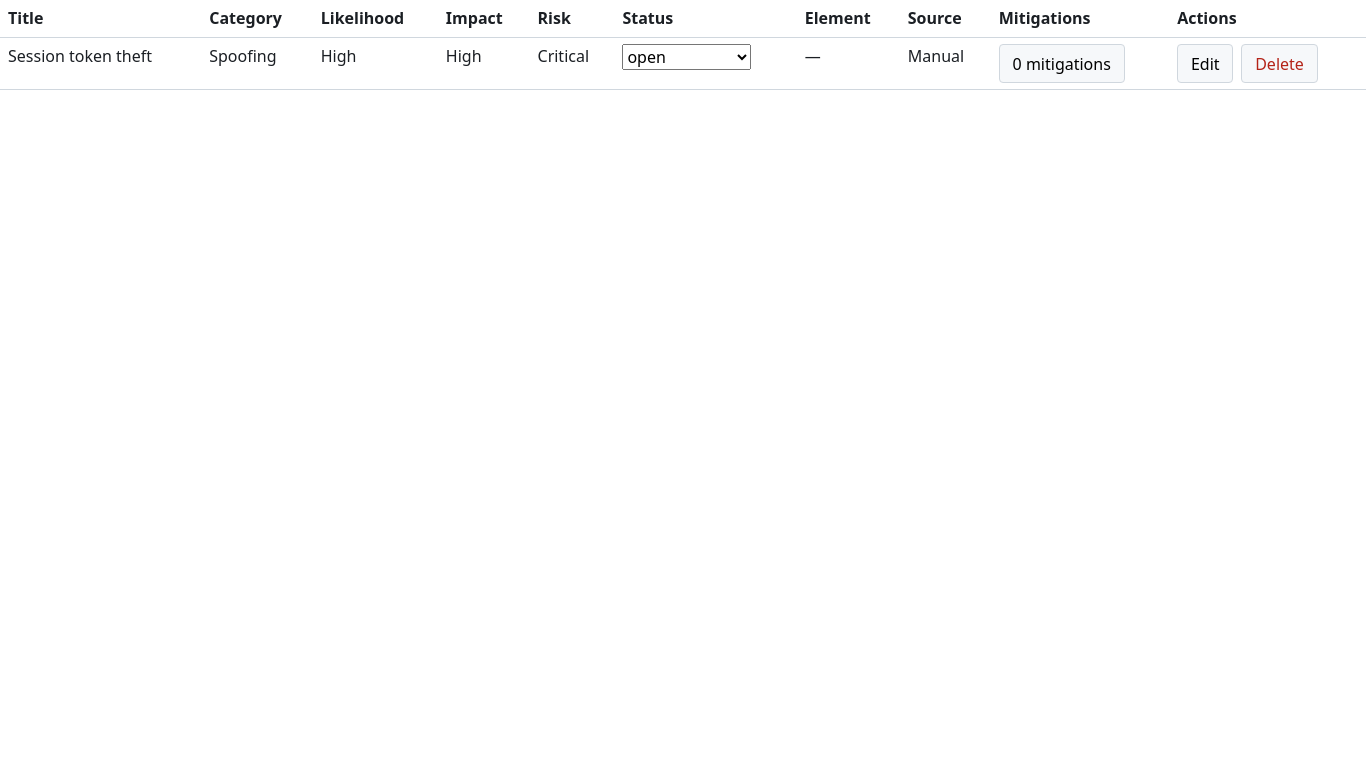
Scenario: ThreatTable › deleting a threat › does not mention mitigations when there are none
Click the button with aria-label "Delete threat". click: (1280, 64)
box: [1241,44,1318,83]
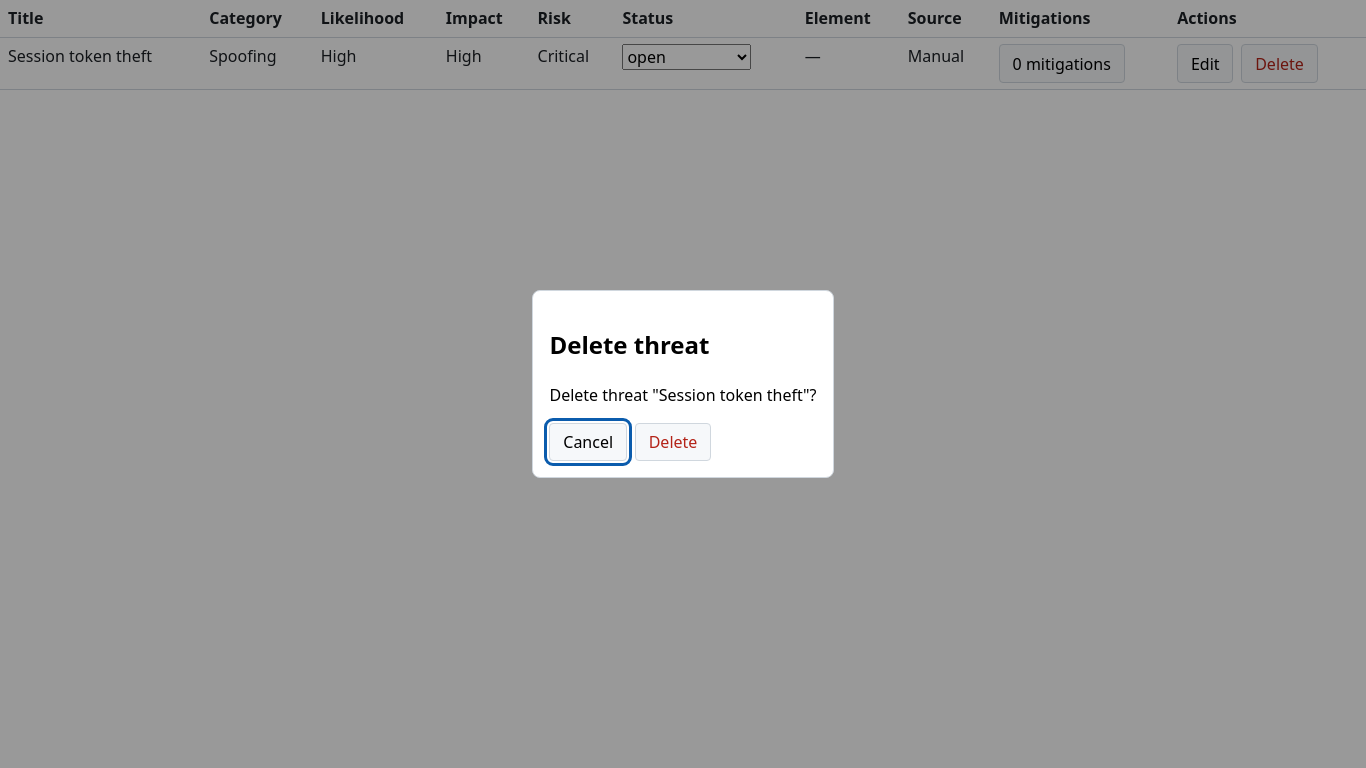
Result: the text "Delete threat \"Session token theft\"?" is shown at [550,382,817,406]
